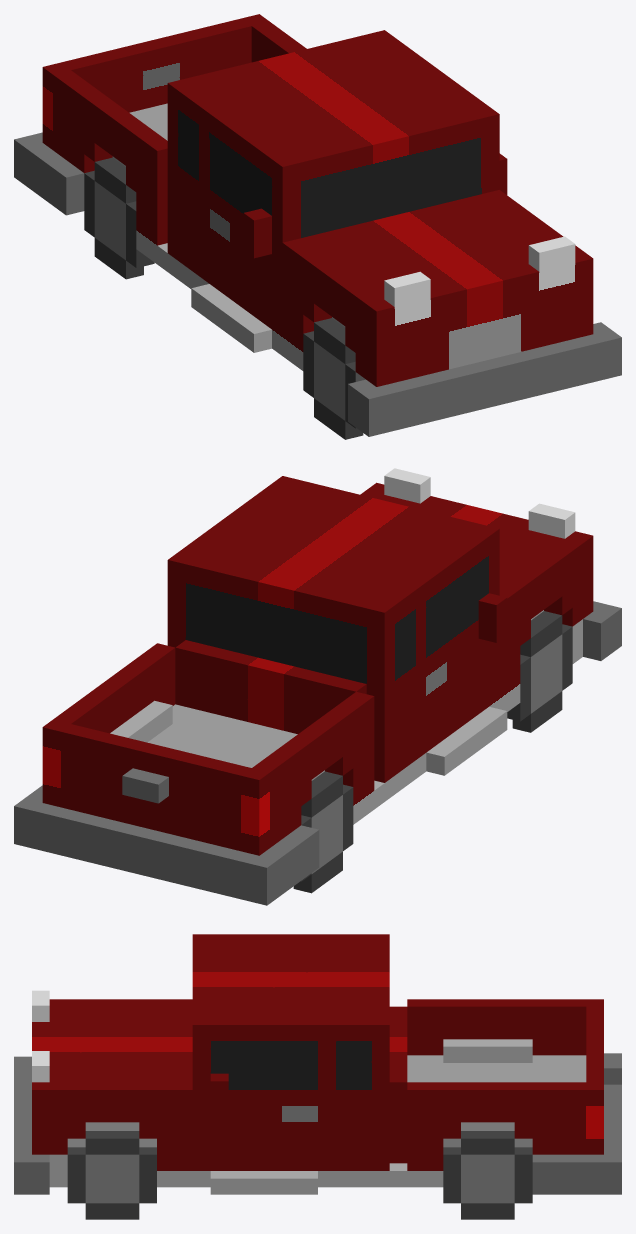
File: veh_truck7.dae
3 renders of one model, top to bottom at view 1: azimuth 30°, elevation 25°; view 2: azimuth 150°, elevation 25°; view 3: azimuth 270°, elevation 25°, orthographic. The views are drawn at different scales.
Visible parts, largest first — view 1: veh_truck7; view 2: veh_truck7; view 3: veh_truck7.
Part boxes in pixels (left/top/right/bottom): veh_truck7: left=14, top=14, right=621, bottom=439; veh_truck7: left=14, top=468, right=621, bottom=905; veh_truck7: left=14, top=934, right=621, bottom=1219.
Size of the model in its own units: 1.4 by 3.4 by 1.2.
1 material, 1 textured.
